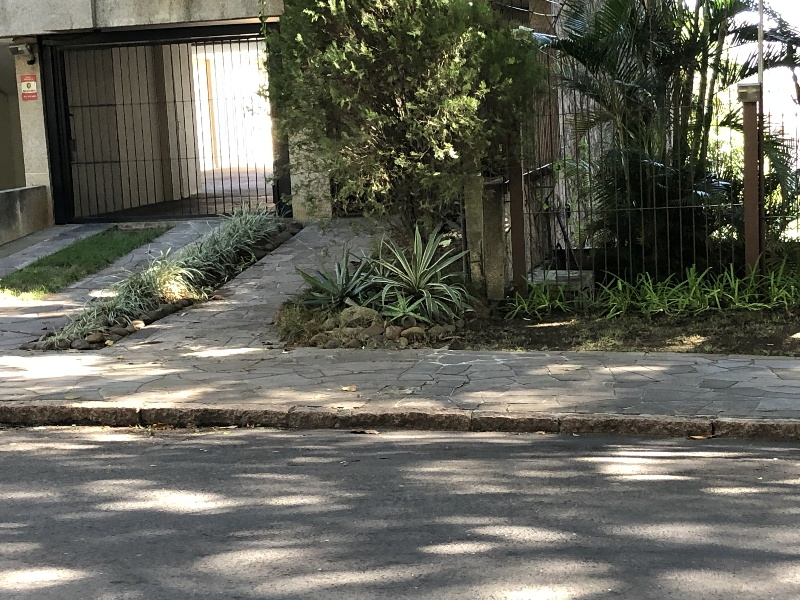v57: (12, 383, 800, 464)
